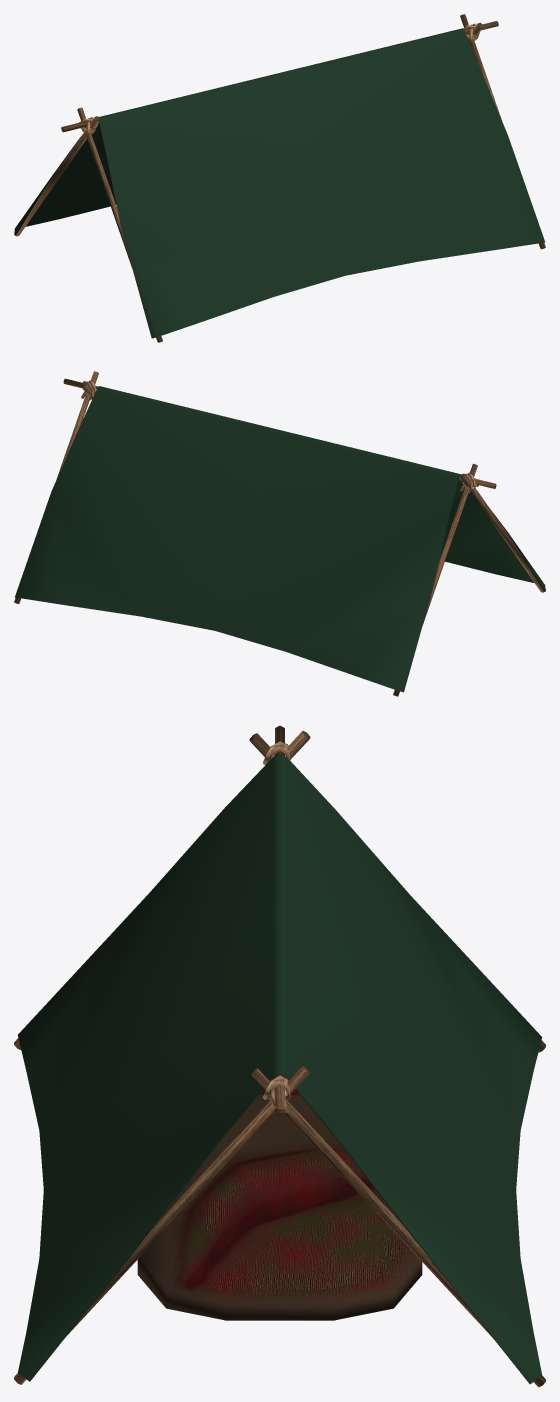
File: Tent.fbx
3 views of the same model, one above another, from view 1: azimuth 30°, elevation 25°; view 2: azimuth 150°, elevation 25°; view 3: azimuth 270°, elevation 25° (orthographic). The views are drawn at different scales.
Visible parts, largest first — view 1: Tent; view 2: Tent; view 3: Tent, SleepingBag.
Part boxes in pixels (left/top/right/bottom): Tent: left=14, top=14, right=545, bottom=342; Tent: left=14, top=371, right=545, bottom=696; Tent: left=14, top=725, right=545, bottom=1387; SleepingBag: left=137, top=1077, right=422, bottom=1320.
Bounding box in the file's own units: 292 × 114 × 173.
